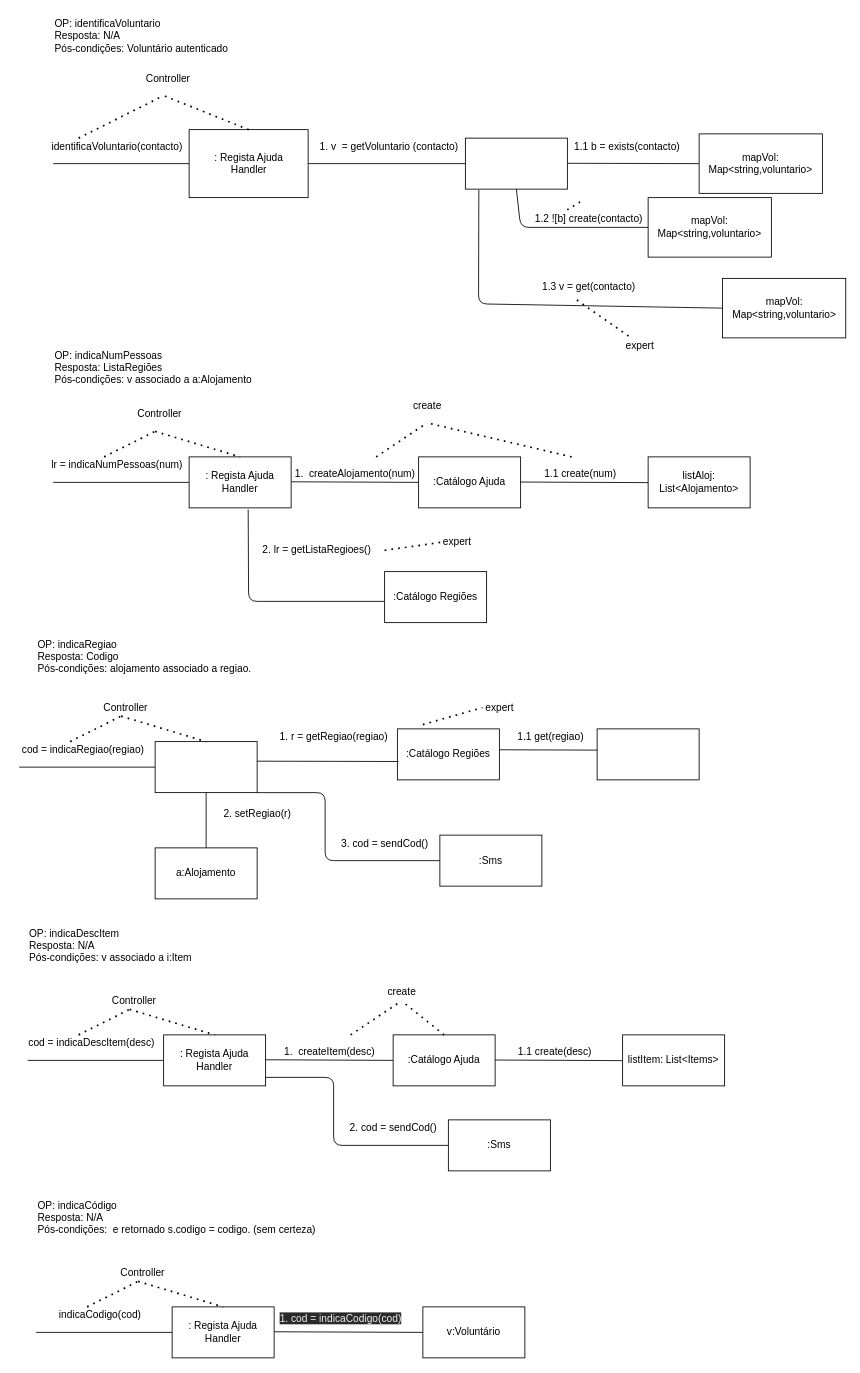
This 860x1373 diagram has some shape labels left out. Each missing label, with the box of its shape:
:Catálogo Voluntário: (465, 137, 567, 189)
:Regista Ajuda Handler: (154, 741, 257, 793)
listRegioes: List<Regiao>: (596, 728, 699, 780)
